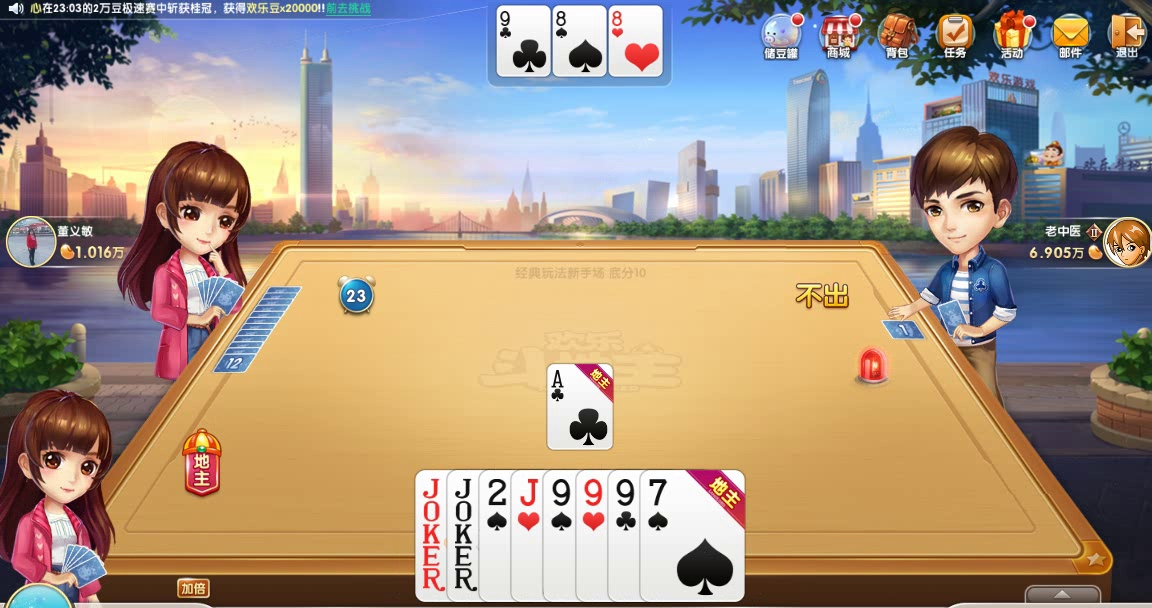11~3: (509, 470, 617, 602)
14~2: (547, 365, 614, 452)
15~4: (478, 468, 586, 600)
17~3: (445, 469, 553, 601)
18~4: (415, 469, 523, 601)
7~4: (638, 470, 746, 602)
8~3: (609, 4, 664, 76)
8~4: (552, 4, 607, 76)
9~2: (607, 470, 715, 602), (496, 5, 551, 77)
9~3: (575, 470, 683, 602)
9~4: (541, 470, 649, 602)
